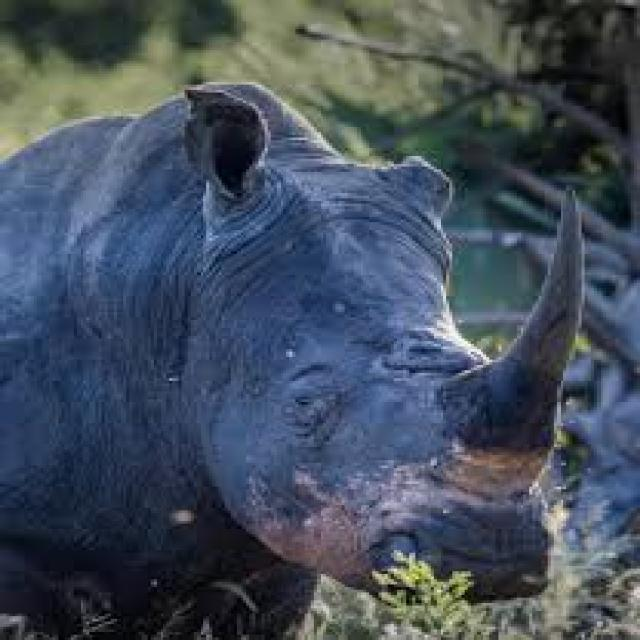Rinoceros: (0, 73, 598, 640)
